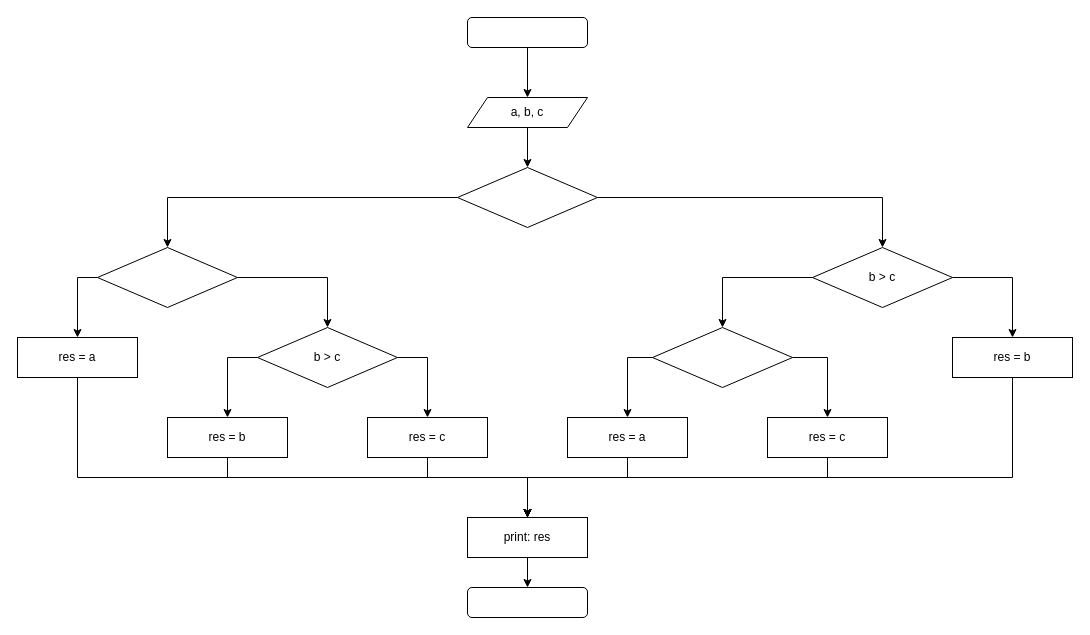
Some shapes in this 1090 by 635 pixel diagram are drawn without their labels. Here are the shapes that lost their labels. From the top down, the centre of each, then its label:
At [527,32]: "begin".
At [527,197]: "a > b".
At [167,277]: "c > a".
At [722,357]: "a > c".
At [527,602]: "end".
